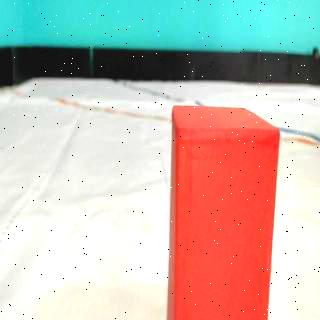redbox: (168, 103, 280, 320)
